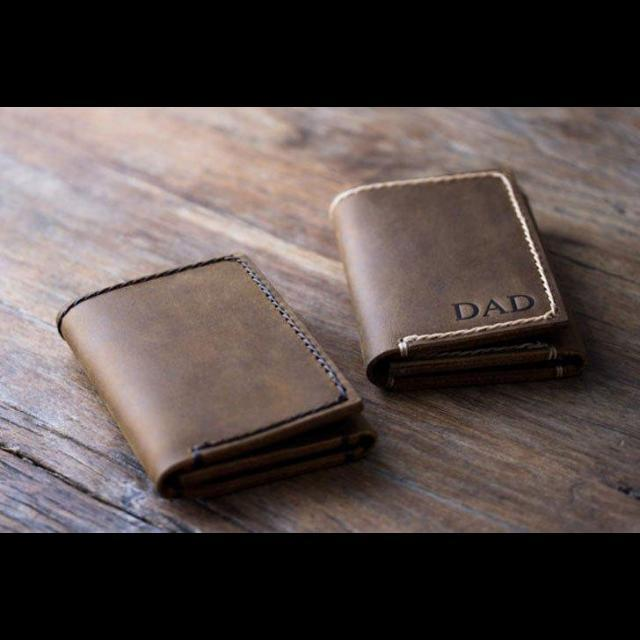Wallet: (58, 250, 374, 498), (331, 170, 591, 386)
